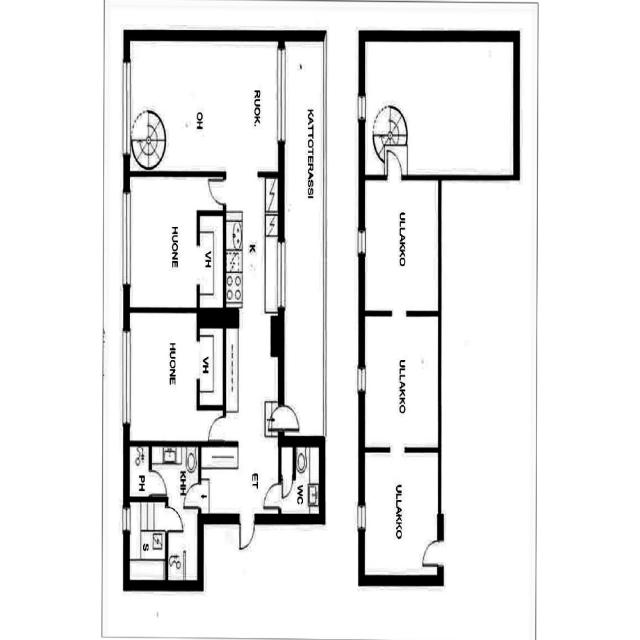door: (127, 170, 199, 314), (361, 451, 440, 580), (271, 402, 300, 433), (420, 536, 444, 568), (237, 515, 257, 553), (205, 175, 228, 207), (385, 147, 404, 181), (206, 412, 226, 442), (262, 480, 282, 510), (164, 504, 183, 534), (148, 468, 167, 497), (272, 476, 290, 506), (184, 481, 202, 508), (280, 476, 294, 500)
window: (117, 187, 136, 293), (269, 236, 289, 315), (273, 45, 287, 149), (119, 326, 131, 430), (119, 61, 132, 156), (355, 90, 367, 125), (356, 226, 368, 258), (356, 502, 367, 534), (356, 364, 367, 396), (121, 504, 131, 535)
zone: (362, 41, 518, 176), (128, 42, 279, 172), (226, 172, 278, 442), (362, 312, 441, 450), (126, 176, 205, 312), (362, 178, 440, 315), (360, 449, 439, 583), (127, 311, 198, 444), (200, 443, 278, 519), (278, 441, 321, 517), (167, 501, 198, 585), (149, 446, 201, 496), (198, 214, 224, 312), (197, 326, 225, 410), (128, 444, 150, 498), (137, 530, 166, 559)
